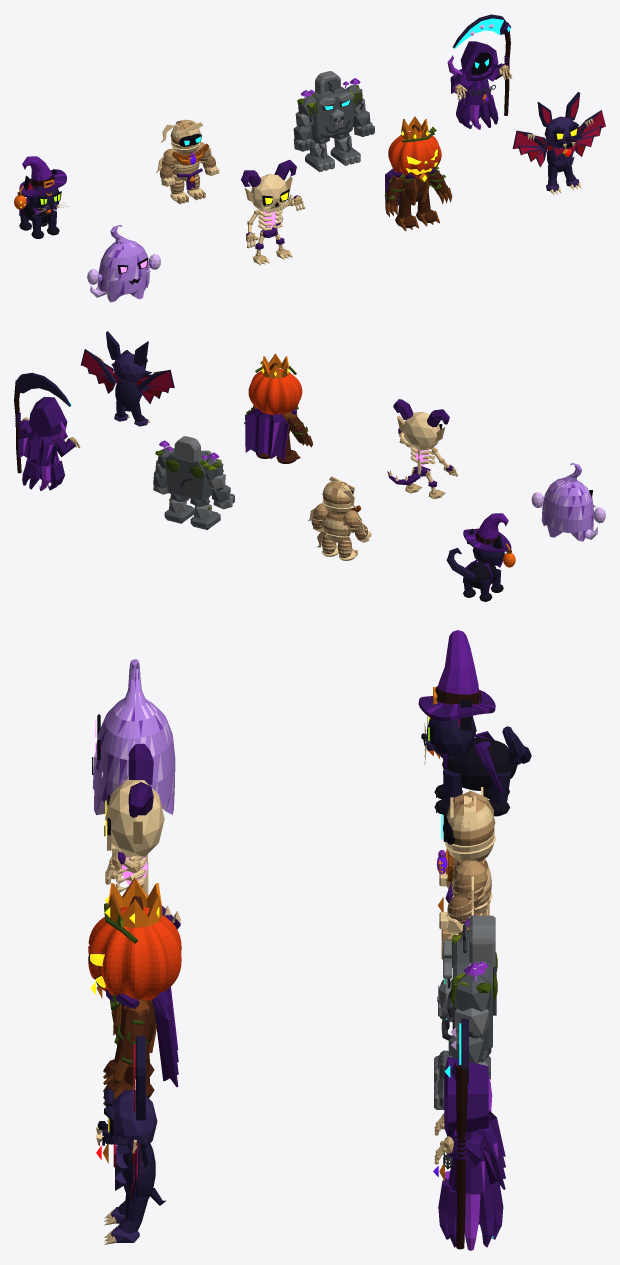
The model's file is HalloweenCollection_Studio.fbx.
3 renders of one model, top to bottom at view 1: azimuth 30°, elevation 25°; view 2: azimuth 150°, elevation 25°; view 3: azimuth 270°, elevation 25°, orthographic. The views are drawn at different scales.
Visible parts, largest first — view 1: GraveGolem__Stone, GhostSlime__Pearl, WraithReaper__Violet, GraveGolem__StoneLight, PumpkinKing__Wood, CountFang__Indigo, SkeletonImp__Ivory, PumpkinKing__Orange, CryptMummy__BandageLight, CountFang__Magenta, CountFang__IndigoLight, CryptMummy__Bandage (+13 smaller); view 2: WraithReaper__Violet, GraveGolem__Stone, GhostSlime__Pearl, CountFang__Indigo, PumpkinKing__Orange, CryptMummy__BandageLight, GraveGolem__StoneLight, SkeletonImp__Ivory, PumpkinKing__Violet, CryptMummy__Bandage, HexCat__Indigo, SkeletonImp__Violet (+14 smaller); view 3: WraithReaper__Violet, PumpkinKing__Orange, GhostSlime__Pearl, CountFang__Indigo, SkeletonImp__Ivory, GraveGolem__Stone, HexCat__Indigo, GraveGolem__StoneLight, HexCat__BlackFur, CryptMummy__BandageLight, CountFang__IndigoLight, PumpkinKing__Wood (+11 smaller).
Part boxes in pixels (bbox=[...]): GraveGolem__Stone: bbox=[293, 79, 374, 169]; GhostSlime__Pearl: bbox=[97, 225, 155, 302]; WraithReaper__Violet: bbox=[450, 22, 510, 128]; GraveGolem__StoneLight: bbox=[293, 71, 372, 171]; PumpkinKing__Wood: bbox=[385, 124, 448, 227]; CountFang__Indigo: bbox=[512, 92, 605, 185]; SkeletonImp__Ivory: bbox=[247, 174, 304, 265]; PumpkinKing__Orange: bbox=[388, 130, 441, 177]; CryptMummy__BandageLight: bbox=[156, 119, 216, 201]; CountFang__Magenta: bbox=[514, 97, 605, 166]; CountFang__IndigoLight: bbox=[519, 116, 600, 192]; CryptMummy__Bandage: bbox=[160, 120, 215, 204]; WraithReaper__Violet: bbox=[15, 396, 75, 490]; GraveGolem__Stone: bbox=[153, 446, 234, 529]; GhostSlime__Pearl: bbox=[541, 463, 593, 541]; CountFang__Indigo: bbox=[80, 331, 174, 421]; PumpkinKing__Orange: bbox=[248, 368, 302, 414]; CryptMummy__BandageLight: bbox=[308, 476, 369, 560]; GraveGolem__StoneLight: bbox=[153, 436, 233, 521]; SkeletonImp__Ivory: bbox=[388, 412, 457, 495]; PumpkinKing__Violet: bbox=[245, 408, 296, 458]; CryptMummy__Bandage: bbox=[313, 481, 367, 556]; HexCat__Indigo: bbox=[446, 545, 504, 595]; SkeletonImp__Violet: bbox=[387, 399, 452, 487]; WraithReaper__Violet: bbox=[438, 1057, 505, 1247]; PumpkinKing__Orange: bbox=[88, 907, 181, 1000]; GhostSlime__Pearl: bbox=[92, 659, 175, 814]; CountFang__Indigo: bbox=[102, 1035, 165, 1233]; SkeletonImp__Ivory: bbox=[105, 780, 180, 922]; GraveGolem__Stone: bbox=[436, 922, 492, 1108]; HexCat__Indigo: bbox=[426, 716, 531, 803]; GraveGolem__StoneLight: bbox=[434, 915, 495, 1109]; HexCat__BlackFur: bbox=[421, 700, 517, 816]; CryptMummy__BandageLight: bbox=[441, 787, 495, 949]; CountFang__IndigoLight: bbox=[107, 1090, 157, 1242]; PumpkinKing__Wood: bbox=[104, 896, 155, 1097].
Size of the model in its own units: 2498 by 499 by 924.
